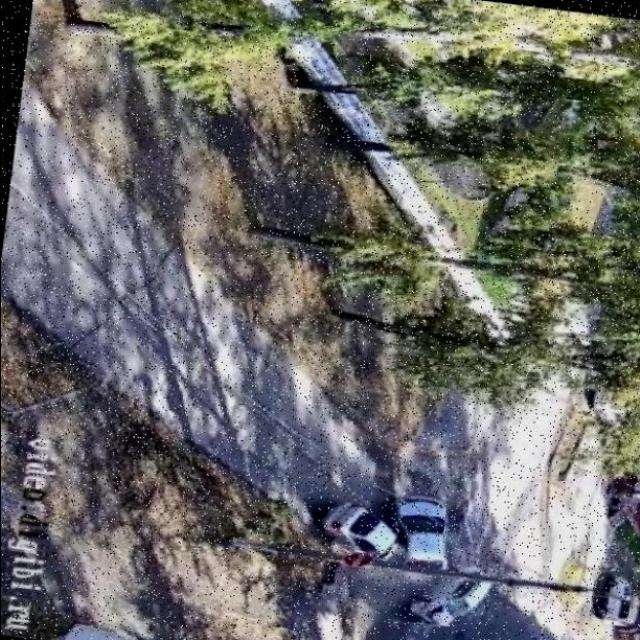accident: (337, 508, 447, 573)
